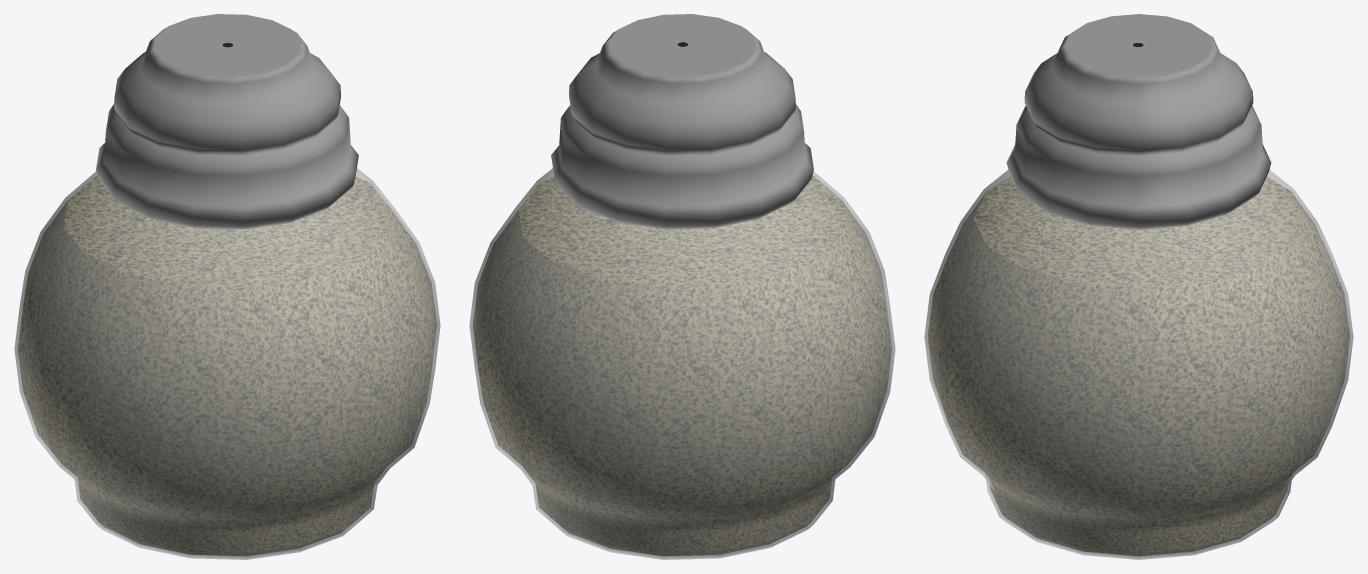
The model's file is pepper_full.fbx.
The picture shows the model from 3 angles, left to right: view 1: azimuth 30°, elevation 25°; view 2: azimuth 150°, elevation 25°; view 3: azimuth 270°, elevation 25°; orthographic projection.
Parts seen in each view (by area): view 1: pepper_full; view 2: pepper_full; view 3: pepper_full.
Boxes of the visible parts, x1,y1,x2,y2 form: pepper_full: [14, 14, 440, 559]; pepper_full: [469, 14, 895, 559]; pepper_full: [924, 14, 1353, 559].
Size of the model in its own units: 6.53 by 7.66 by 6.53.
3 materials, 2 textured.
